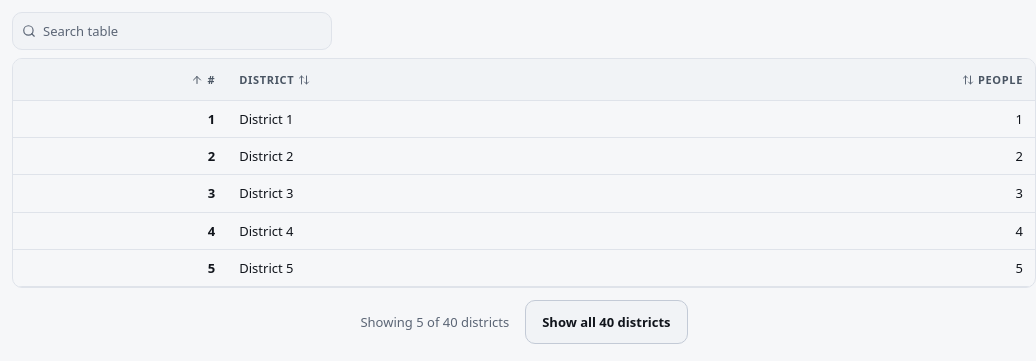
Scenario: SortableTable search › keeps sorting and the preview working on the filtered rows
This screenshot has width=1036, height=361.
Type "district 3" into the search field at (172, 31), box [12,12,332,50]
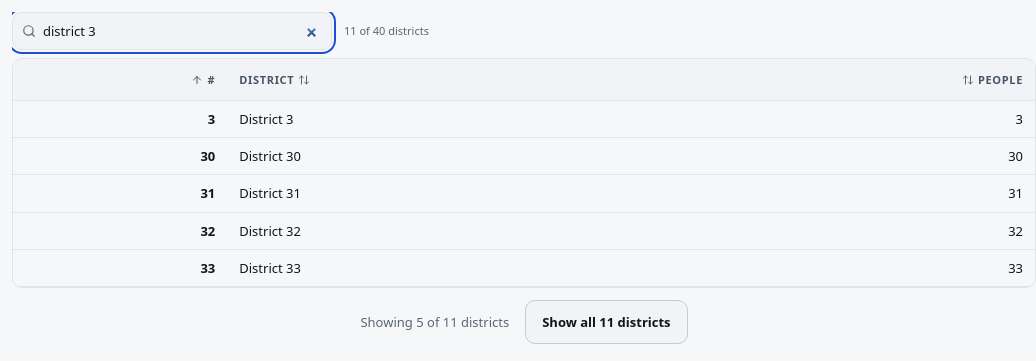
Now the text "Showing 5 of 11 districts" is shown, box [360,313,509,331]
District 3, 30–39: eleven matches, five shown.
Click the button "People" at (992, 80), box [962,67,1023,92]
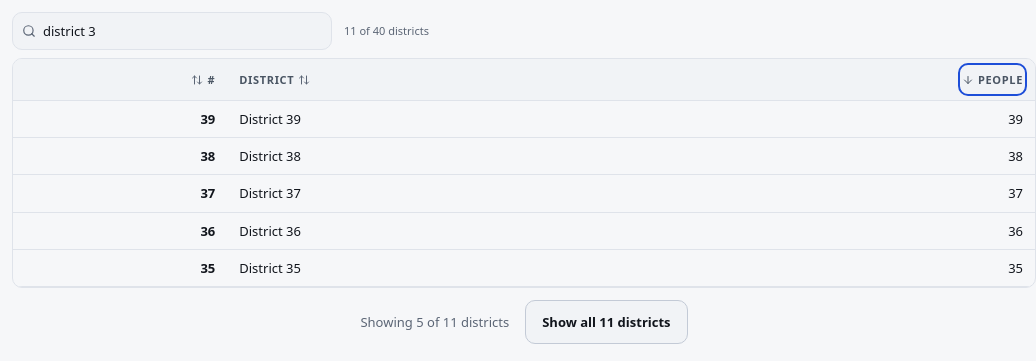
Now the row "39 District 39 39" is shown, box [13,101,1035,138]
